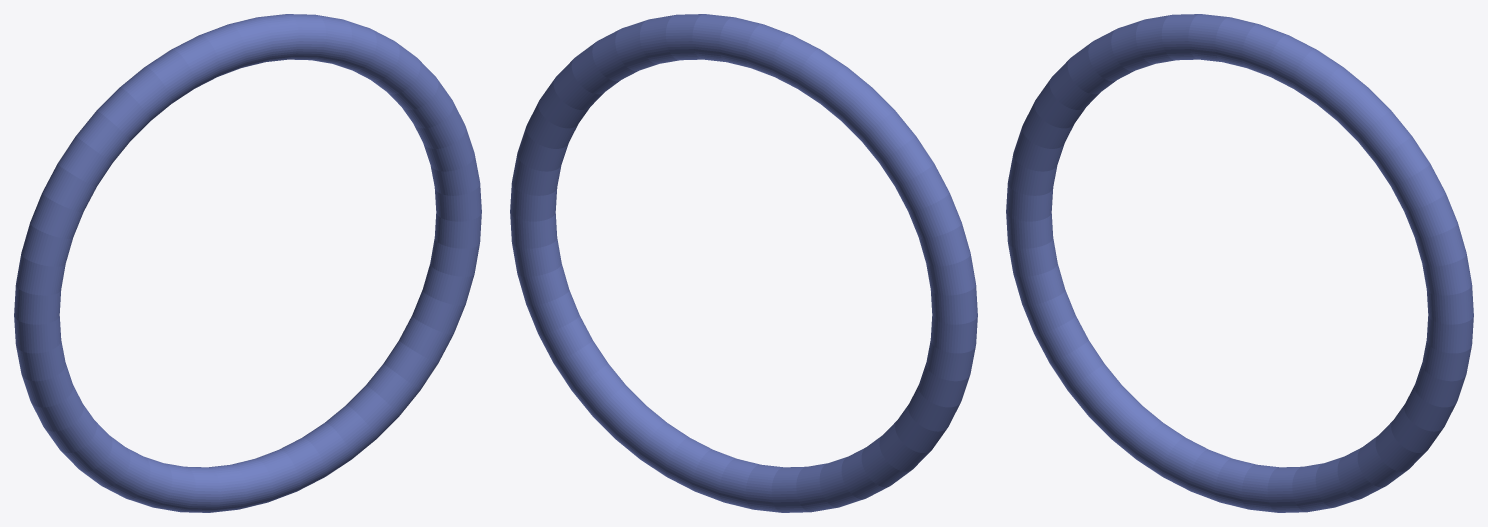
The picture shows the model from 3 angles, left to right: view 1: azimuth 30°, elevation 25°; view 2: azimuth 150°, elevation 25°; view 3: azimuth 330°, elevation 25°; orthographic projection.
Visible parts, largest first — view 1: world; view 2: world; view 3: world.
Part boxes in pixels (x1,y1,x2,y2): world: (14,14,481,512); world: (510,14,977,512); world: (1006,14,1473,512).
Size of the model in its own units: 23.33 by 23.29 by 2.
